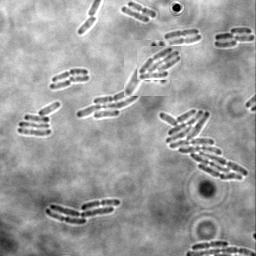Dividing: (52, 67, 89, 81), (128, 1, 157, 18), (166, 34, 202, 47), (164, 28, 200, 39), (192, 239, 229, 249)
Microcolony: (158, 109, 249, 180), (124, 40, 170, 96), (76, 88, 139, 119), (45, 199, 121, 224), (18, 101, 61, 136), (137, 46, 181, 80), (214, 27, 255, 48)
Rod: (121, 5, 150, 23), (78, 16, 99, 34), (50, 79, 72, 89), (69, 73, 90, 82)
